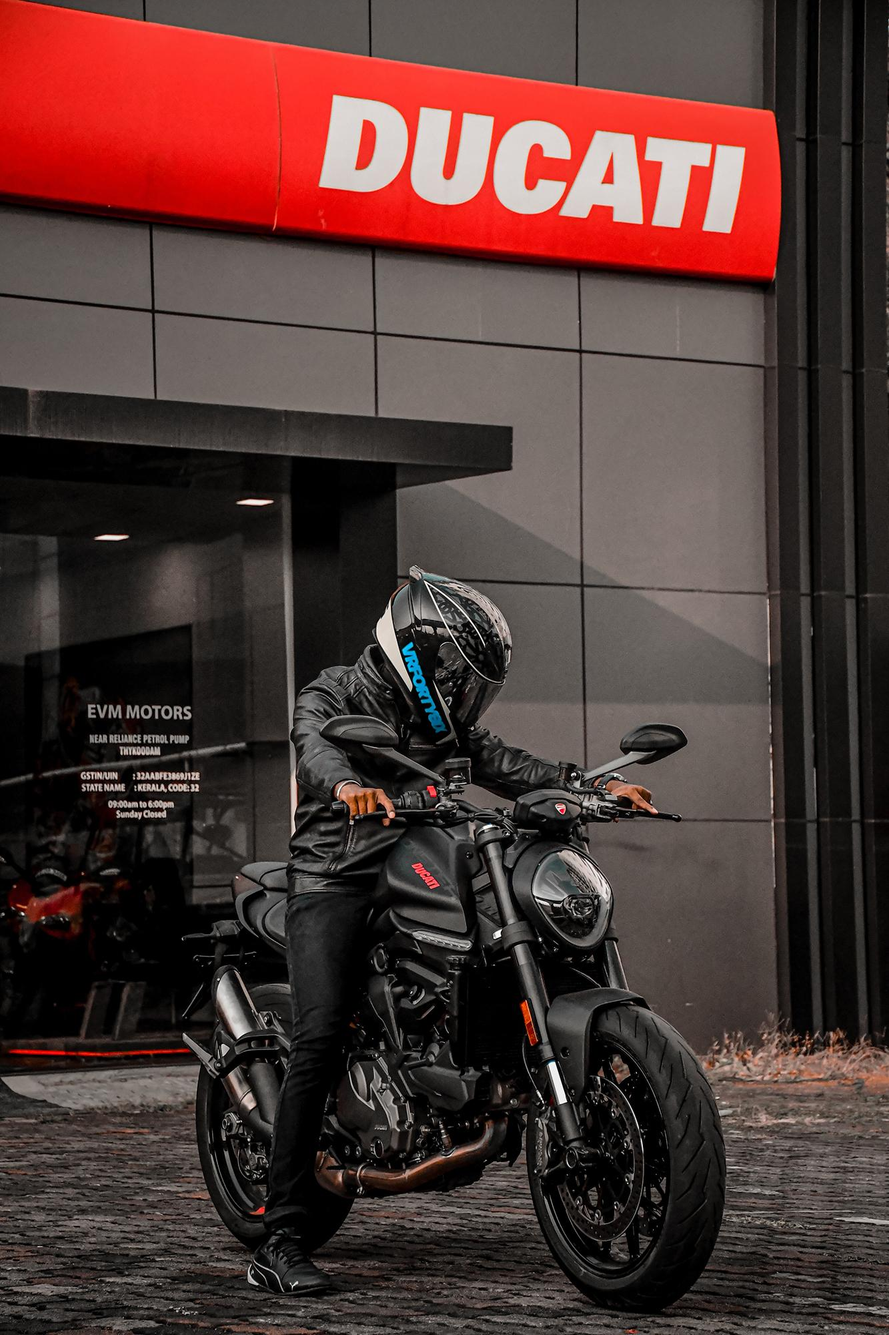helmet: (371, 563, 515, 749)
